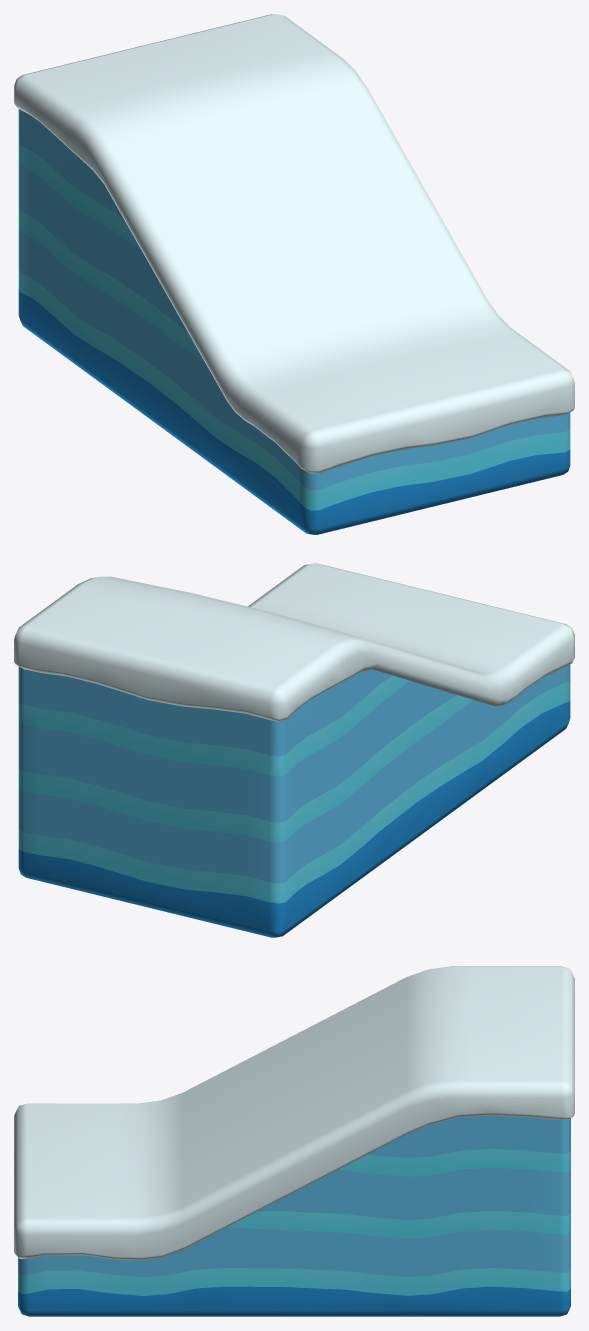
The model's file is ice_platform_002.fbx.
3 renders of one model, top to bottom at view 1: azimuth 30°, elevation 25°; view 2: azimuth 150°, elevation 25°; view 3: azimuth 270°, elevation 25°, orthographic. The views are drawn at different scales.
Parts seen in each view (by area): view 1: ice_platform_002; view 2: ice_platform_002; view 3: ice_platform_002.
Boxes of the visible parts, bbox=[...] form: ice_platform_002: bbox=[14, 14, 574, 534]; ice_platform_002: bbox=[14, 563, 574, 937]; ice_platform_002: bbox=[14, 966, 574, 1316].
Bounding box in the file's own units: 447 × 849 × 400.
